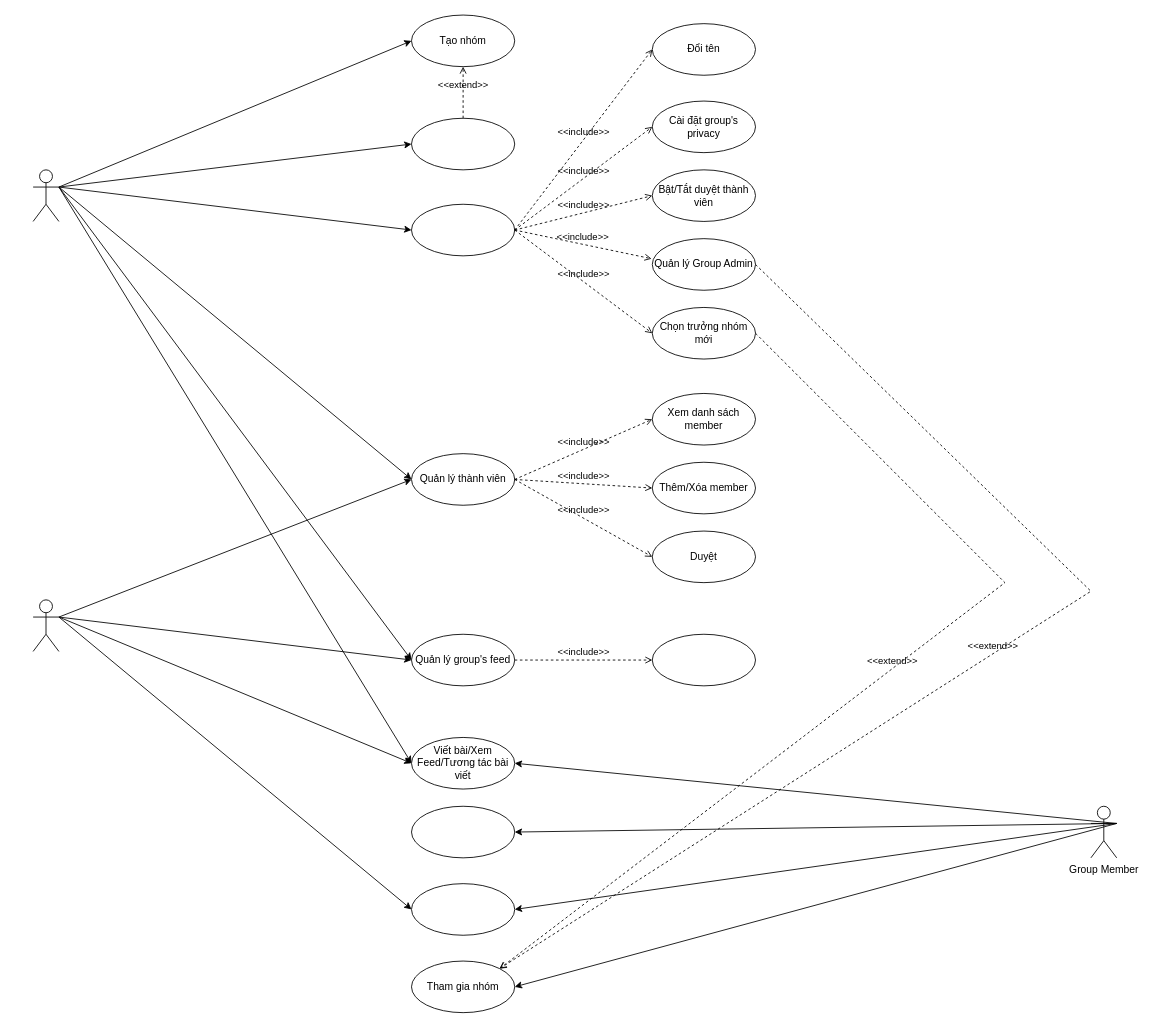
This 1153x1028 diagram has some shape labels left out. Here are the shapes that lost their labels. From the top down, the centre of each, then its label:
At point 463,143: "Xóa nhóm".
At point 45,195: "Group Owner".
At point 463,229: "Cài đặt nhóm".
At point 45,625: "Group Admin".
At point 703,659: "Xóa bài viết".
At point 463,831: "Thêm thành viên".
At point 463,909: "Rời nhóm".
